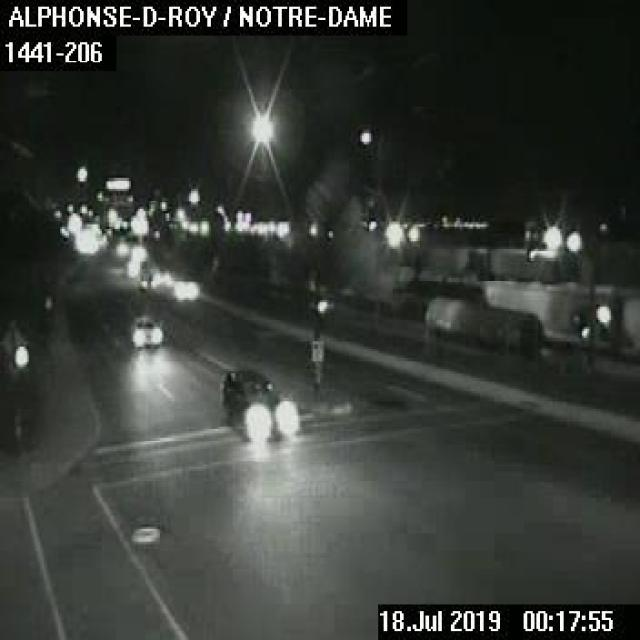vehicle: (218, 364, 296, 438), (129, 311, 162, 345), (171, 276, 196, 302)
